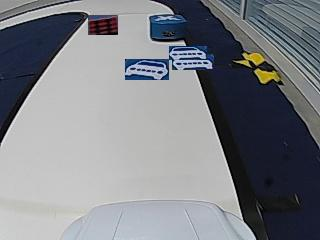prop: (150, 15, 187, 42)
